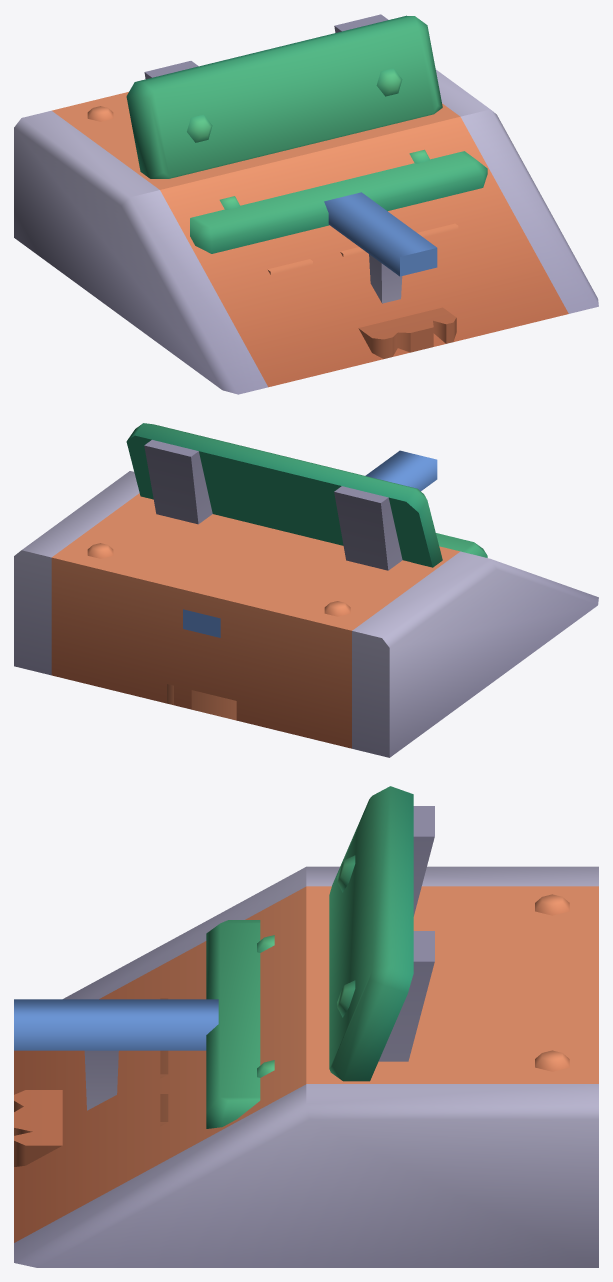
File: skate.glb
3 renders of one model, top to bottom at view 1: azimuth 30°, elevation 25°; view 2: azimuth 150°, elevation 25°; view 3: azimuth 270°, elevation 25°, orthographic. The views are drawn at different scales.
Parts seen in each view (by area): view 1: ramp, bench, rail-low, plank, pallet; view 2: ramp, bench, rail-low, plank; view 3: ramp, bench, rail-low, plank.
Boxes of the visible parts, x1,y1,x2,y2 form: ramp: (14, 69, 598, 394); bench: (126, 14, 487, 253); rail-low: (324, 192, 437, 303); plank: (358, 307, 456, 358); pallet: (267, 223, 458, 274); ramp: (14, 471, 598, 757); bench: (126, 423, 487, 570); rail-low: (183, 450, 437, 637); plank: (167, 684, 236, 720); ramp: (14, 866, 598, 1267); bench: (206, 786, 434, 1128); rail-low: (14, 999, 218, 1110); plank: (14, 1090, 62, 1166).
Bounding box in the file's own units: 1 × 0.5072 × 1.
Materials: 1 (1 with a texture image).
